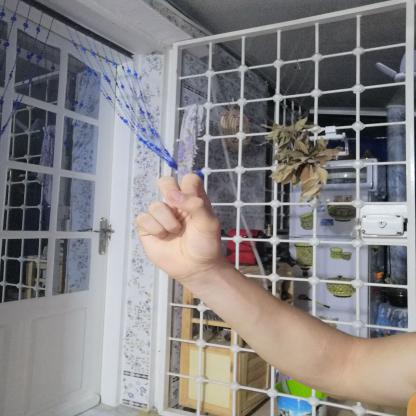QAAF: (122, 162, 235, 287)
